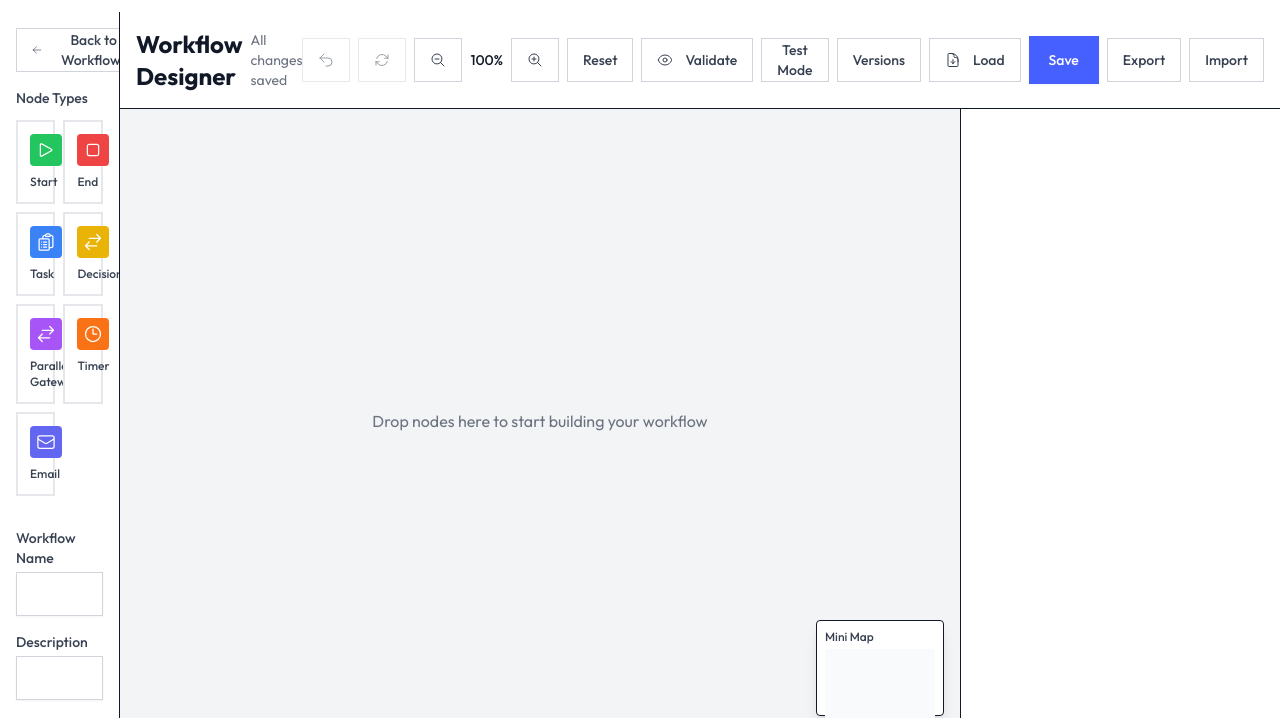
WorkflowDesignerPage Component › Workflow Metadata Management › should validate required workflow metadata fields
This screenshot has width=1280, height=718.
What coordinates should you click on to do the following:
click the button with test id "save-workflow-button"
I would click on:
 (1064, 60)
Its box is [1029,36,1099,84].
(page scrolled)
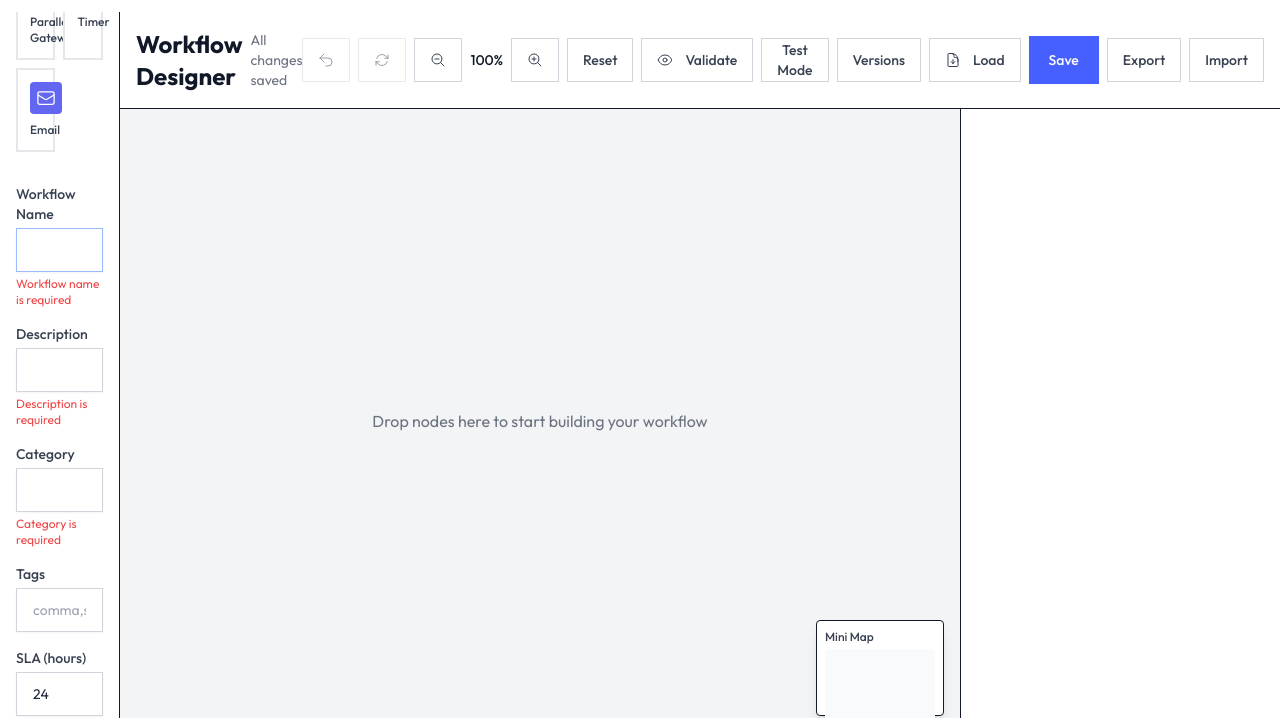
Now the text "Workflow name is required" is shown, box [16,276,103,308]
Now the text "Description is required" is shown, box [16,396,87,427]
